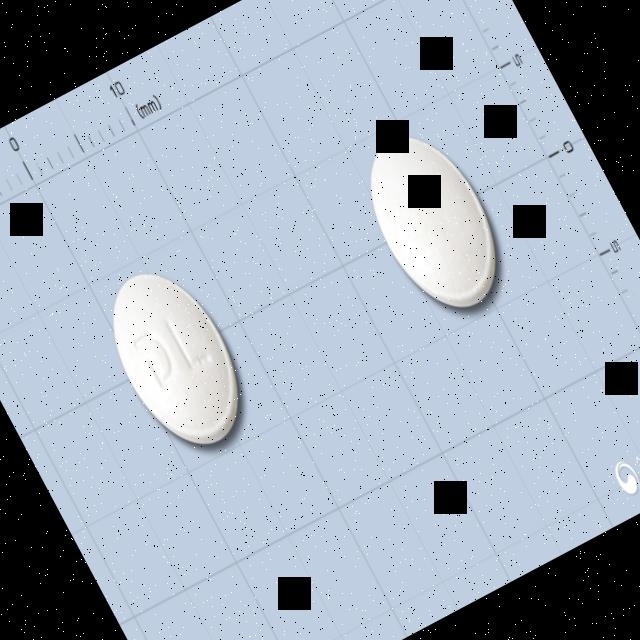Levicin: (86, 250, 266, 466)
